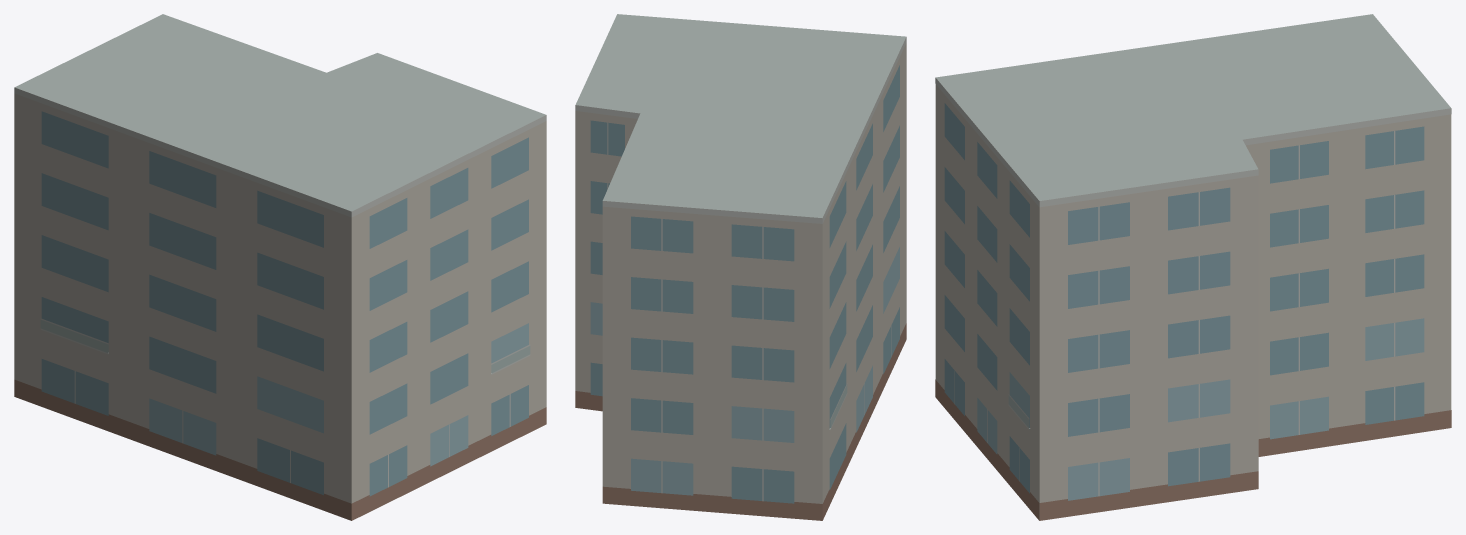
File: survey-upis-32863648.glb
3 renders of one model, left to right at view 1: azimuth 30°, elevation 25°; view 2: azimuth 150°, elevation 25°; view 3: azimuth 270°, elevation 25°, orthographic. The views are drawn at different scales.
Parts seen in each view (by area): view 1: survey-upis-32863648.tmp; view 2: survey-upis-32863648.tmp; view 3: survey-upis-32863648.tmp.
Boxes of the visible parts, <box> form: survey-upis-32863648.tmp: <box>14,14,546,520</box>; survey-upis-32863648.tmp: <box>575,14,906,520</box>; survey-upis-32863648.tmp: <box>935,14,1451,520</box>.
Size of the model in its own units: 15.88 by 12.64 by 18.5.
